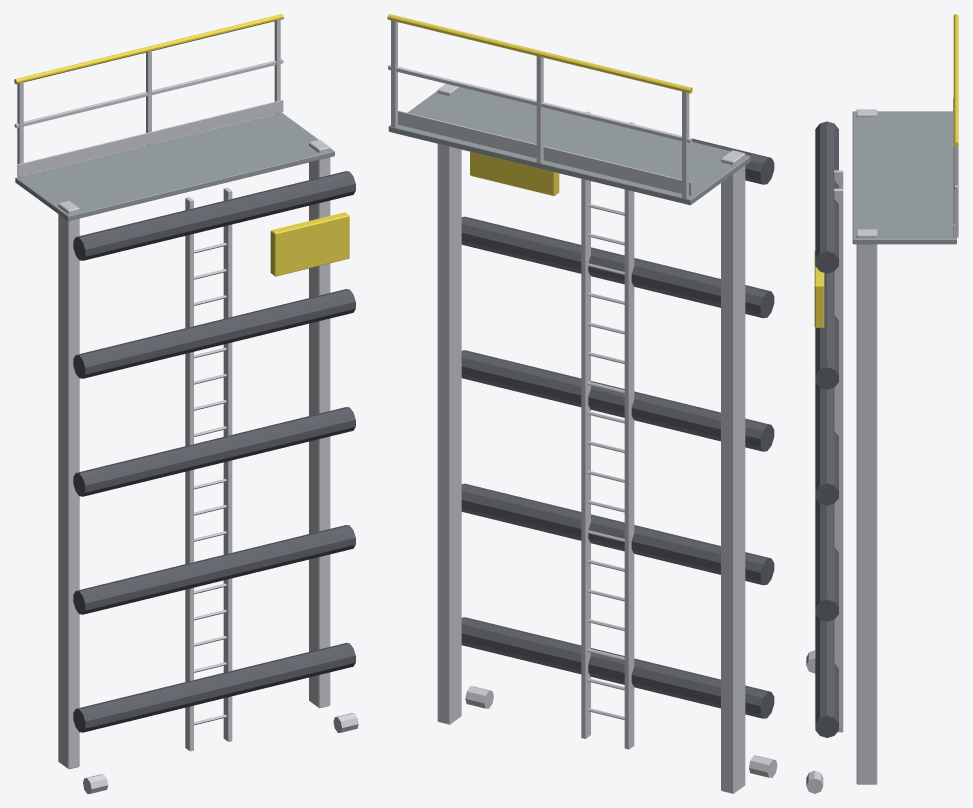
Rendered from offshore-oil-rig-and-platform-boat-landing-and-ladder-1008a94a__37005.glb.
3 views of the same model, side by side, from view 1: azimuth 30°, elevation 25°; view 2: azimuth 150°, elevation 25°; view 3: azimuth 270°, elevation 25° (orthographic). The views are drawn at different scales.
Parts seen in each view (by area): view 1: boat-landing-and-ladder; view 2: boat-landing-and-ladder; view 3: boat-landing-and-ladder.
Boxes of the visible parts, left/top/right/bottom form: boat-landing-and-ladder: left=14, top=14, right=358, bottom=793; boat-landing-and-ladder: left=387, top=14, right=777, bottom=793; boat-landing-and-ladder: left=806, top=14, right=958, bottom=793.
Bounding box in the file's own units: 3.24 × 7.58 × 1.61.
